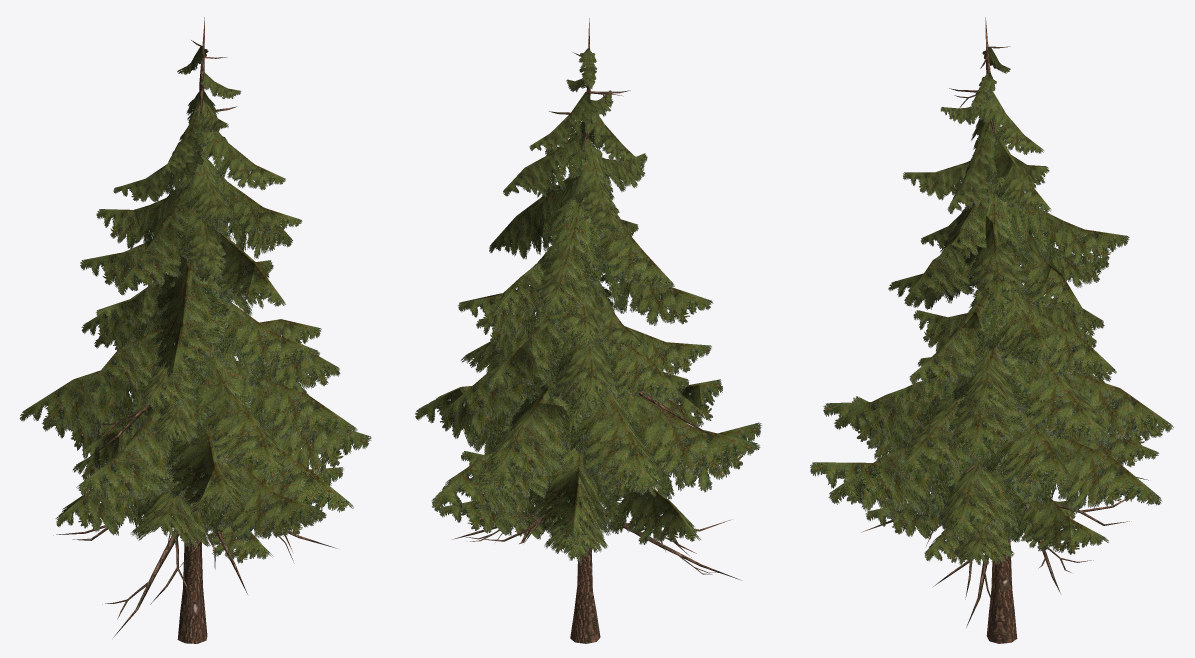
File: Pine Tree.003.fbx
The picture shows the model from 3 angles, left to right: view 1: azimuth 30°, elevation 25°; view 2: azimuth 150°, elevation 25°; view 3: azimuth 270°, elevation 25°; orthographic projection.
Visible parts, largest first — view 1: Pine Tree.003 Leaves.002, Pine Tree.003 Trunk.002; view 2: Pine Tree.003 Leaves.002, Pine Tree.003 Trunk.002; view 3: Pine Tree.003 Leaves.002, Pine Tree.003 Trunk.002.
Part boxes in pixels (box(x1,y1,x2,y2)): Pine Tree.003 Leaves.002: box(20, 46, 371, 563); Pine Tree.003 Trunk.002: box(53, 17, 336, 643); Pine Tree.003 Leaves.002: box(415, 49, 761, 563); Pine Tree.003 Trunk.002: box(452, 18, 741, 643); Pine Tree.003 Leaves.002: box(810, 48, 1173, 565); Pine Tree.003 Trunk.002: box(861, 17, 1148, 643).
Size of the model in its own units: 172 by 324 by 178.
